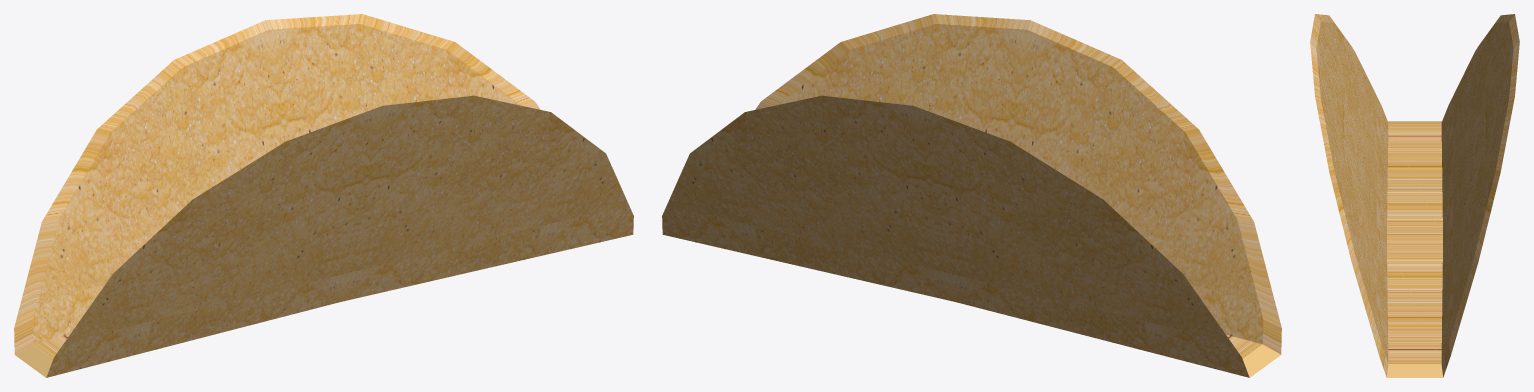
File: taco.fbx
3 views of the same model, side by side, from view 1: azimuth 30°, elevation 25°; view 2: azimuth 150°, elevation 25°; view 3: azimuth 270°, elevation 25° (orthographic). The views are drawn at different scales.
Parts seen in each view (by area): view 1: pCylinder6; view 2: pCylinder6; view 3: pCylinder6.
Part boxes in pixels (x1,y1,x2,y2): pCylinder6: [14, 14, 633, 377]; pCylinder6: [662, 14, 1281, 377]; pCylinder6: [1310, 14, 1519, 377].
Bounding box in the file's own units: 8.64 × 3.26 × 2.98.
Materials: 1 (1 with a texture image).
